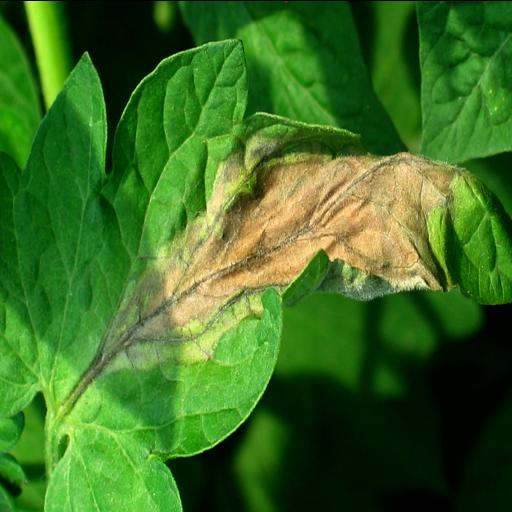Late Blight: (4, 28, 504, 504)
